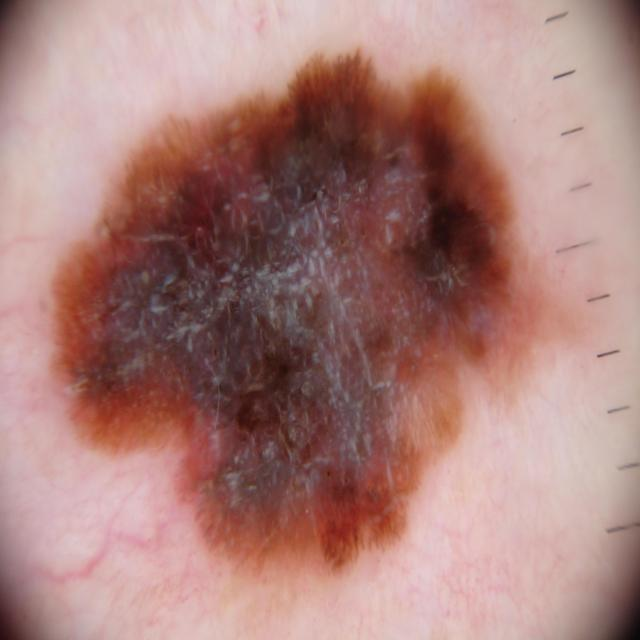Melanoma: (40, 53, 550, 585)
